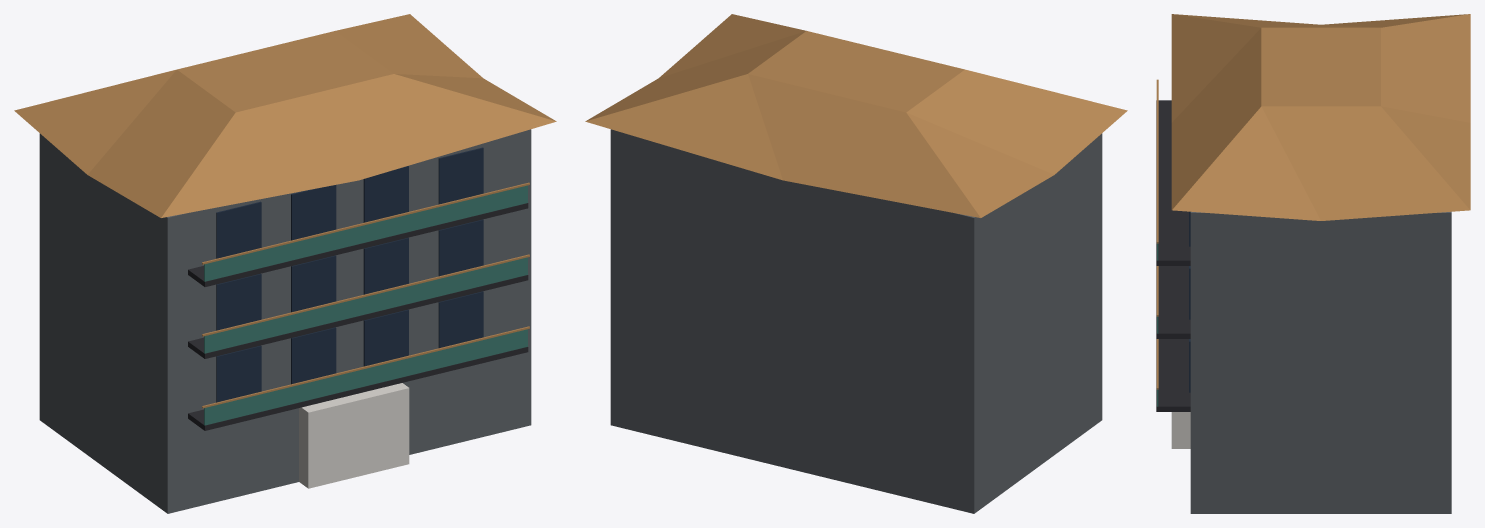
Rendered from building_eastyork_s4_sino_tower_flats.glb.
3 views of the same model, side by side, from view 1: azimuth 30°, elevation 25°; view 2: azimuth 150°, elevation 25°; view 3: azimuth 270°, elevation 25° (orthographic).
Visible parts, largest first — view 1: building_eastyork_s4_sino_tower_flats; view 2: building_eastyork_s4_sino_tower_flats; view 3: building_eastyork_s4_sino_tower_flats.
Part boxes in pixels (<box>): building_eastyork_s4_sino_tower_flats: <box>14,14,556,513</box>; building_eastyork_s4_sino_tower_flats: <box>585,14,1127,513</box>; building_eastyork_s4_sino_tower_flats: <box>1156,14,1470,513</box>.
Bounding box in the file's own units: 19.6 × 16.6 × 13.25.
Materials: 1 (1 with a texture image).
